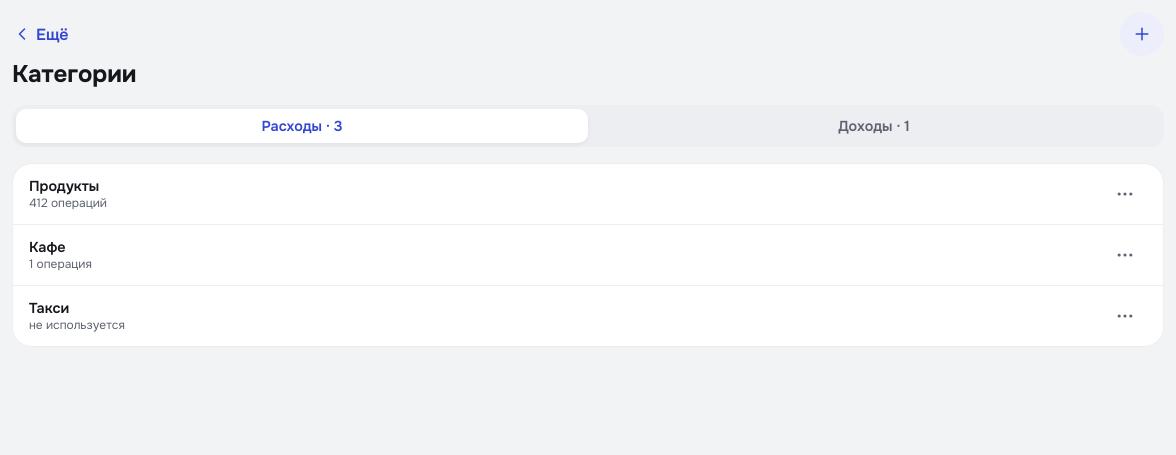
CategoriesScreen › rename › submits on Enter and closes on success
Click the button named "Действия: Продукты".
click(1125, 194)  # box [1103,172,1147,216]
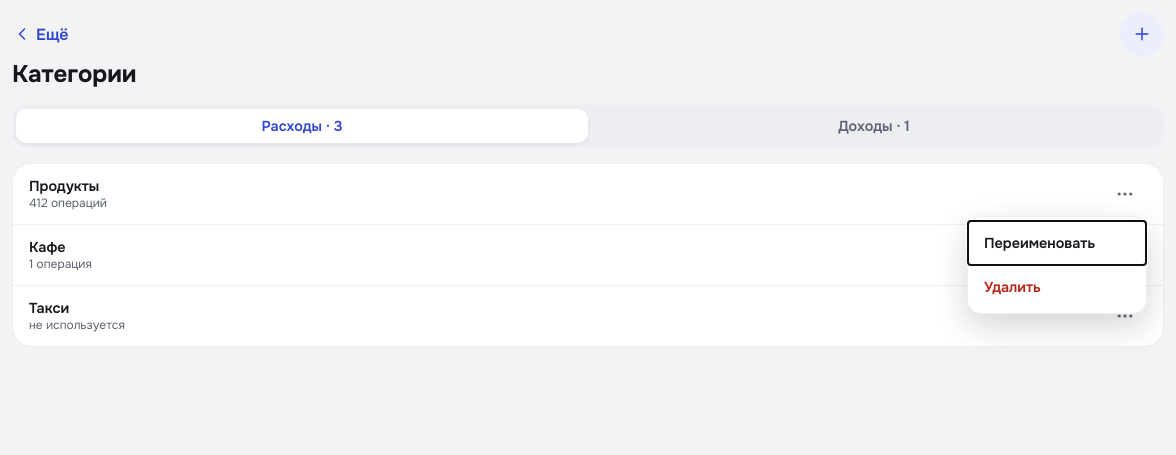
Click the menu item "Переименовать".
click(1057, 243)  # box [968,221,1146,265]
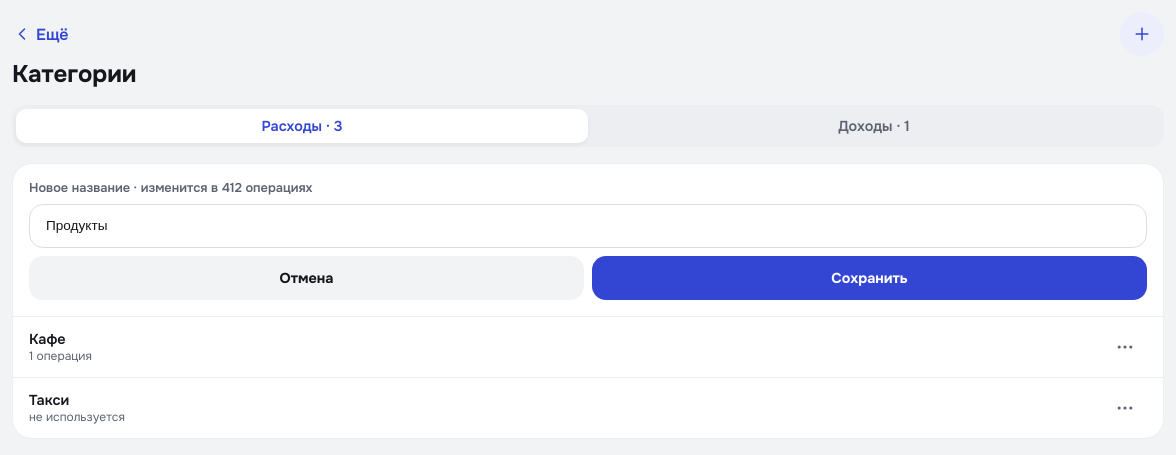
Replace the text in the field with "Еда" at (588, 226), box [29,204,1147,248]
Then press Enter
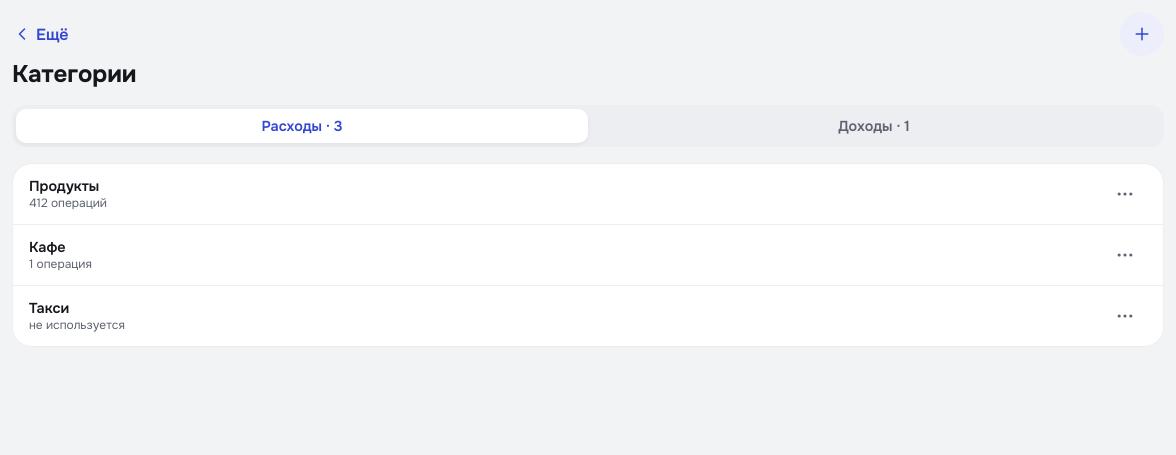
Result: the field is gone
Result: the text "Продукты" is shown at [29,177,99,195]
